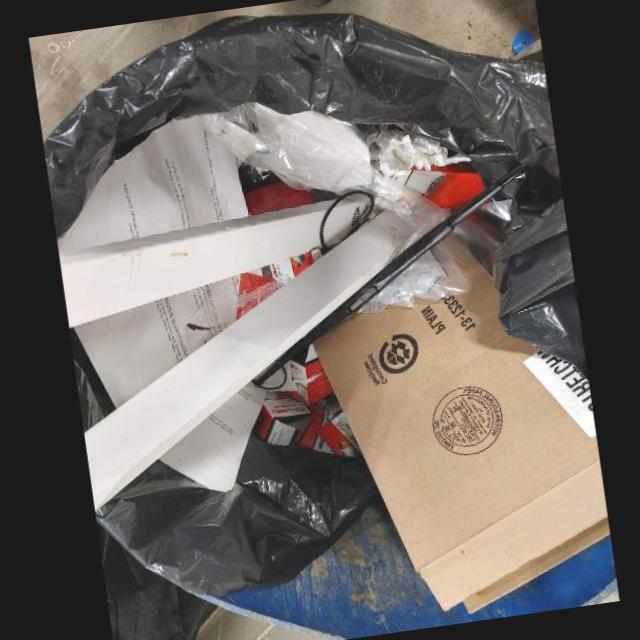carton: (312, 258, 610, 613), (255, 397, 311, 446), (289, 344, 333, 406), (298, 406, 335, 454)
giay: (57, 115, 249, 253), (377, 134, 471, 178)
